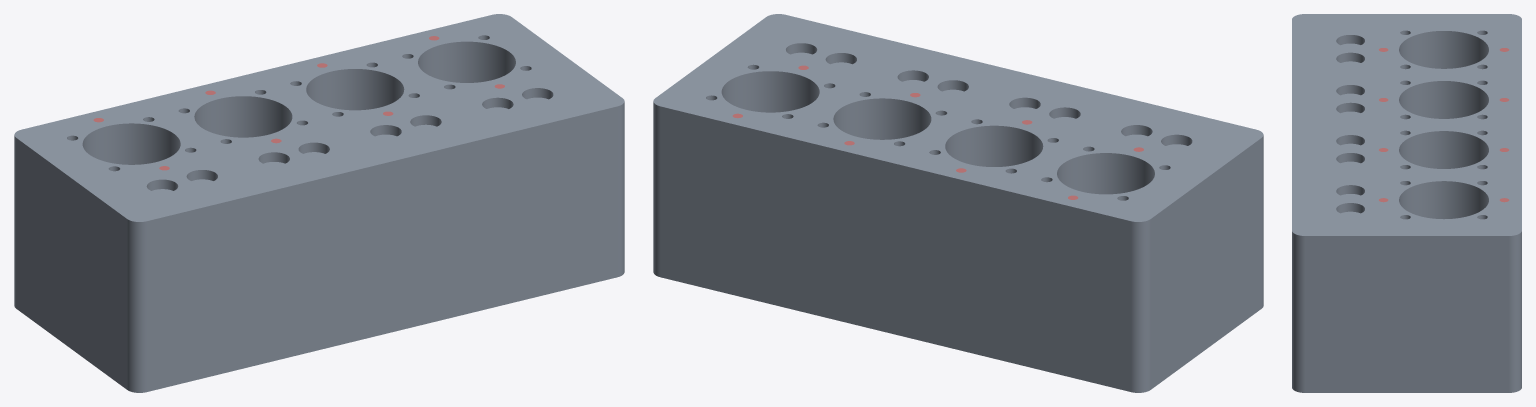
The model's file is step_07.glb.
3 renders of one model, left to right at view 1: azimuth 30°, elevation 25°; view 2: azimuth 150°, elevation 25°; view 3: azimuth 270°, elevation 25°, orthographic. The views are drawn at different scales.
Parts seen in each view (by area): view 1: part__cylinder block (deck); view 2: part__cylinder block (deck); view 3: part__cylinder block (deck), removed__cylinder block (deck).
Boxes of the visible parts, x1=… form: part__cylinder block (deck): x1=14, y1=14, x2=624, y2=392; part__cylinder block (deck): x1=653, y1=14, x2=1263, y2=392; part__cylinder block (deck): x1=1292, y1=14, x2=1521, y2=392; removed__cylinder block (deck): x1=1379, y1=48, x2=1509, y2=202.
Bounding box in the file's own units: 546 × 180 × 239.
